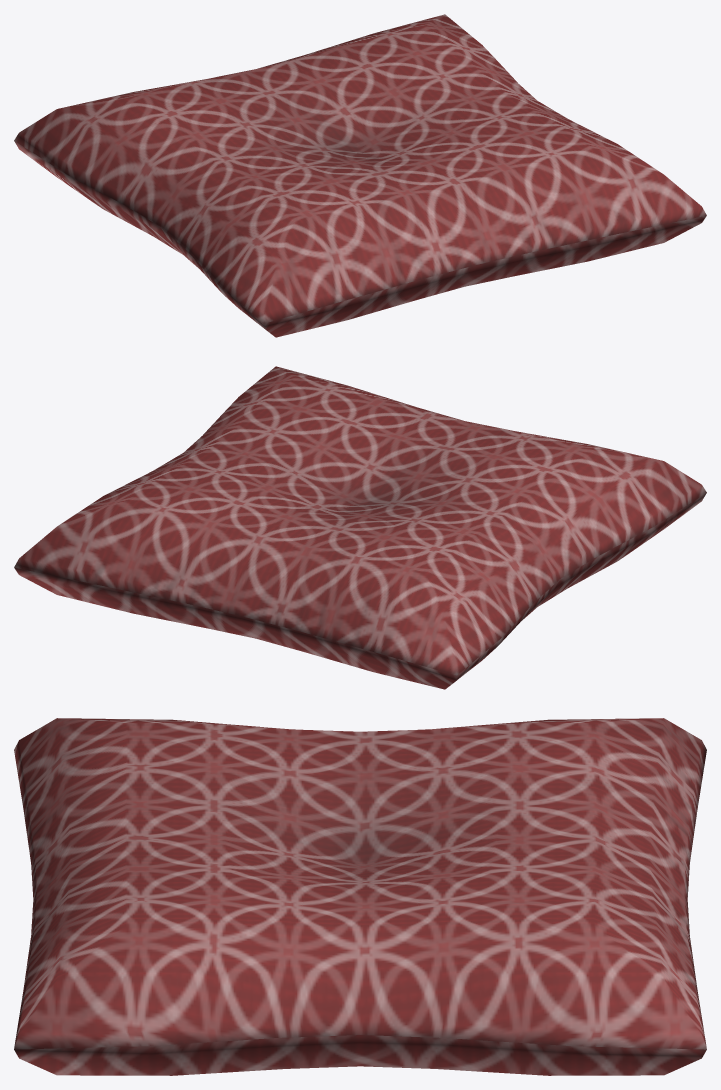
The model's file is Cushion01.fbx.
3 views of the same model, one above another, from view 1: azimuth 30°, elevation 25°; view 2: azimuth 150°, elevation 25°; view 3: azimuth 270°, elevation 25° (orthographic). The views are drawn at different scales.
Visible parts, largest first — view 1: Cushion01; view 2: Cushion01; view 3: Cushion01.
Part boxes in pixels (x1,y1,x2,y2): Cushion01: [14, 14, 706, 337]; Cushion01: [14, 366, 706, 689]; Cushion01: [14, 718, 706, 1075].
Size of the model in its own units: 73.15 by 15.36 by 71.5.
